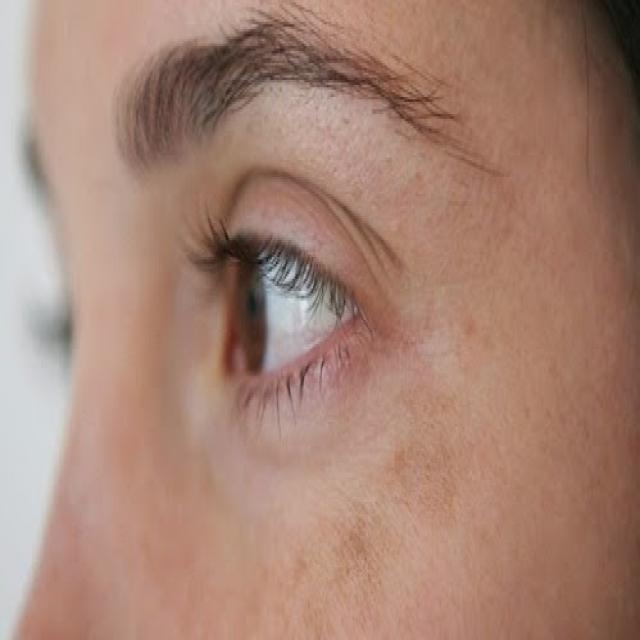Dark-Spots: (240, 305, 480, 640)
